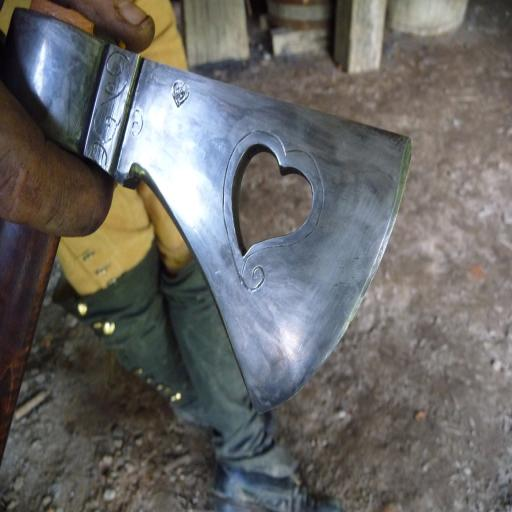Axe: (0, 3, 413, 464)
